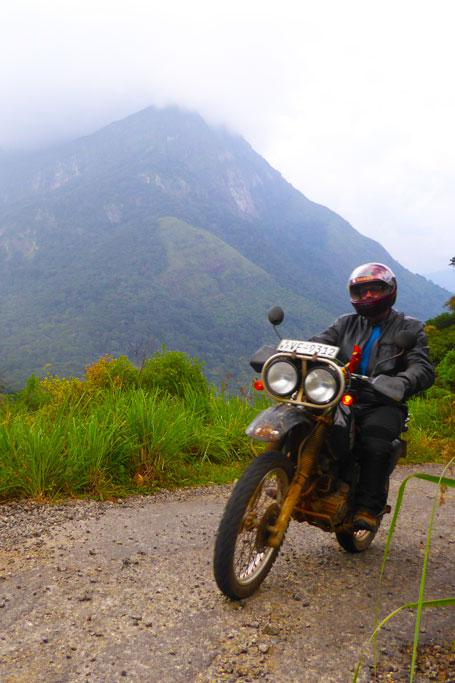motorbike: (213, 305, 416, 599)
